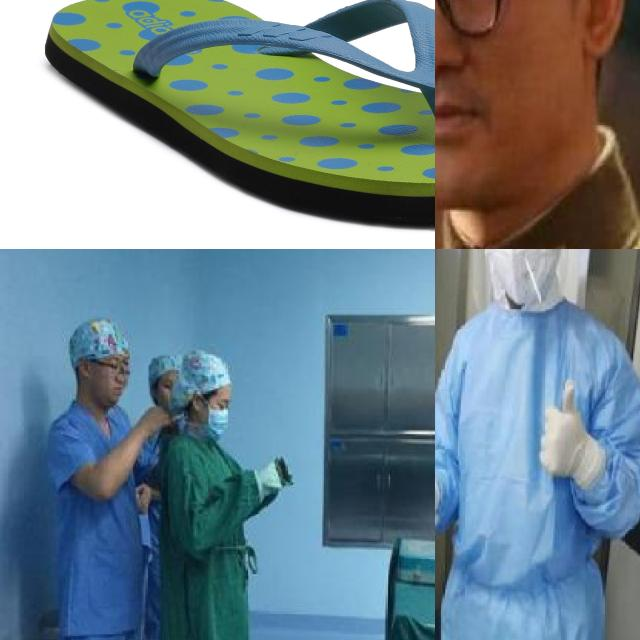No_Ear-Protection: (579, 0, 635, 67)
Sandals: (42, 0, 435, 231)
face_mask: (476, 249, 554, 311), (204, 388, 236, 436)
face_nomask: (435, 0, 578, 213), (96, 350, 130, 401)
glasses: (435, 0, 510, 50)
hand_glove: (538, 378, 588, 476), (258, 452, 285, 499)
hand_noglove: (142, 403, 172, 438), (133, 481, 150, 510)
head_nohelmet: (61, 308, 139, 366), (182, 347, 230, 396)
person: (435, 249, 640, 640), (435, 0, 640, 249), (161, 331, 298, 640), (48, 297, 151, 640)
